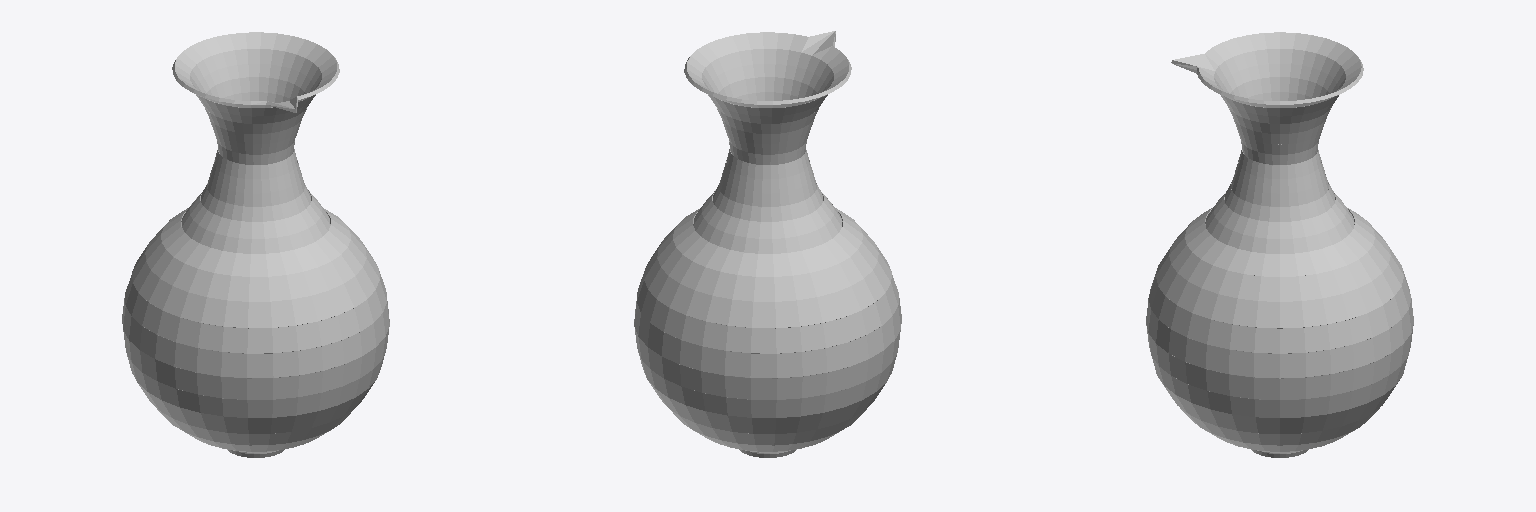
Rendered from modelo_jarron_funcionando.obj.
The picture shows the model from 3 angles: view 1: azimuth 30°, elevation 25°; view 2: azimuth 150°, elevation 25°; view 3: azimuth 270°, elevation 25°; orthographic projection.
Visible parts, largest first — view 1: Circle_Circle.001; view 2: Circle_Circle.001; view 3: Circle_Circle.001.
Part boxes in pixels (x1,y1,x2,y2): Circle_Circle.001: (122,32,389,457); Circle_Circle.001: (634,31,901,457); Circle_Circle.001: (1146,32,1413,457).
Bounding box in the file's own units: 2.08 × 3.24 × 2.08.